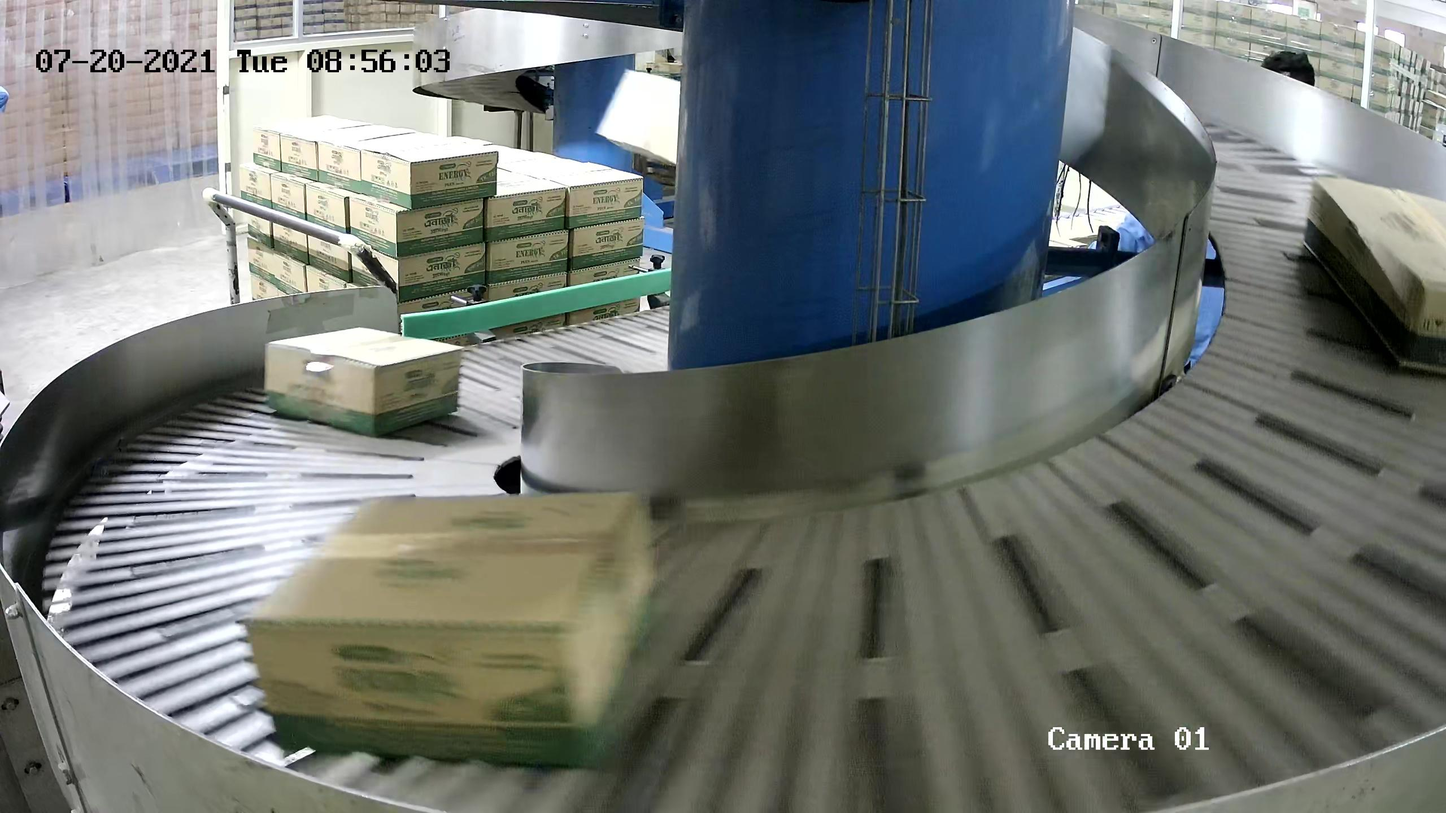Box: (240, 483, 657, 771), (1300, 173, 1446, 378), (263, 324, 466, 439)
